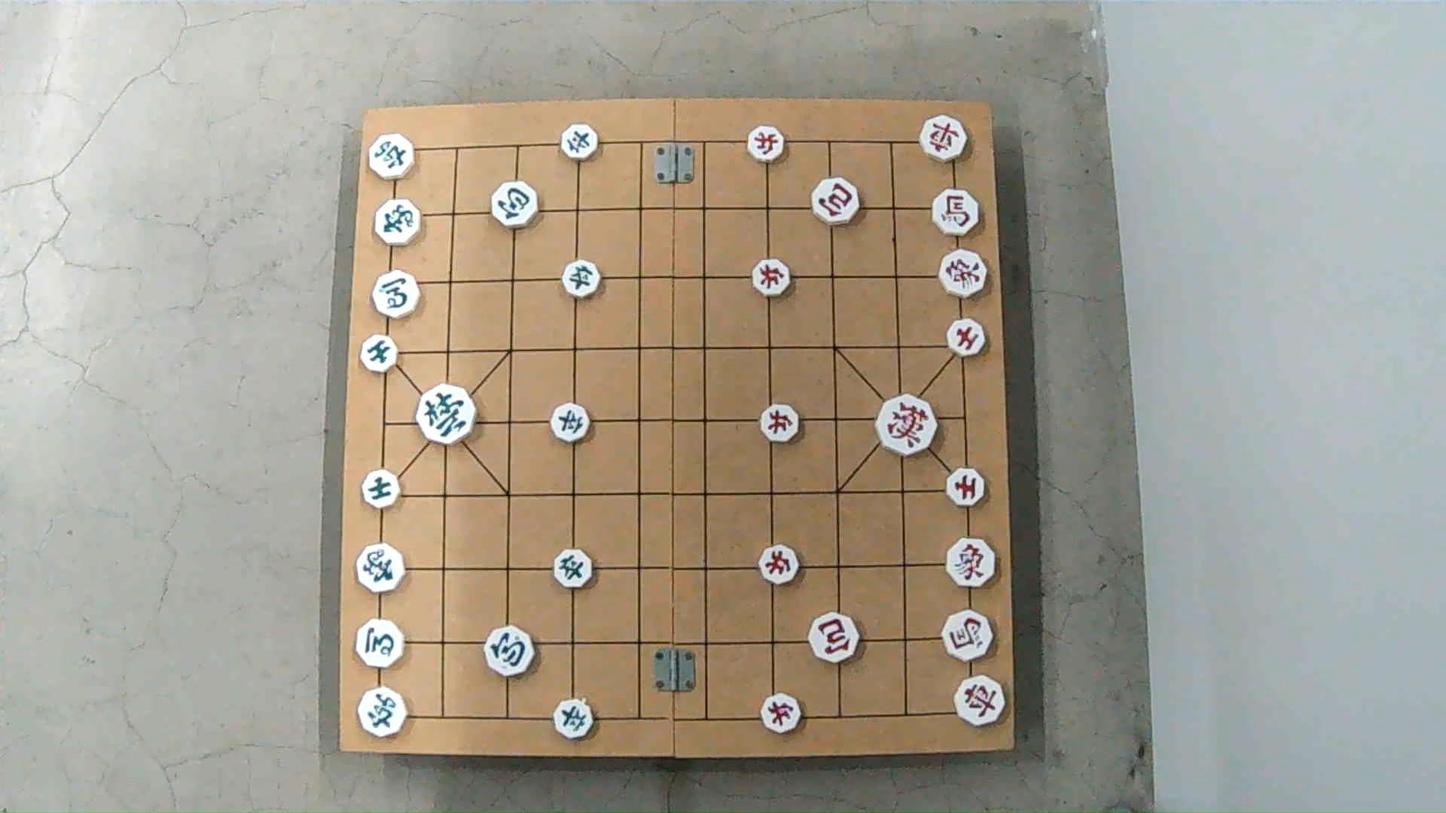cha_green: (358, 690, 410, 737), (369, 135, 417, 178)
cha_red: (953, 678, 1008, 723), (919, 117, 971, 160)
jol_green: (551, 404, 593, 441), (552, 702, 594, 739), (560, 263, 602, 297), (551, 551, 593, 584), (558, 124, 598, 157)
jol_red: (758, 694, 802, 731), (756, 547, 800, 583), (758, 407, 802, 441), (749, 262, 792, 296), (746, 128, 789, 161)
ma_green: (355, 620, 408, 667), (370, 274, 421, 315)
ma_red: (941, 613, 993, 659), (929, 189, 981, 233)
po_green: (482, 629, 536, 674), (490, 183, 541, 225)
po_red: (808, 615, 862, 661), (810, 183, 863, 226)
sa_green: (363, 338, 404, 373), (364, 473, 404, 507)
sa_red: (947, 467, 987, 507), (944, 322, 987, 357)
sang_green: (357, 545, 409, 592), (373, 201, 423, 245)
sang_red: (944, 537, 994, 589), (939, 251, 987, 298)
wang_green: (419, 389, 482, 443)
wang_red: (875, 394, 938, 455)
